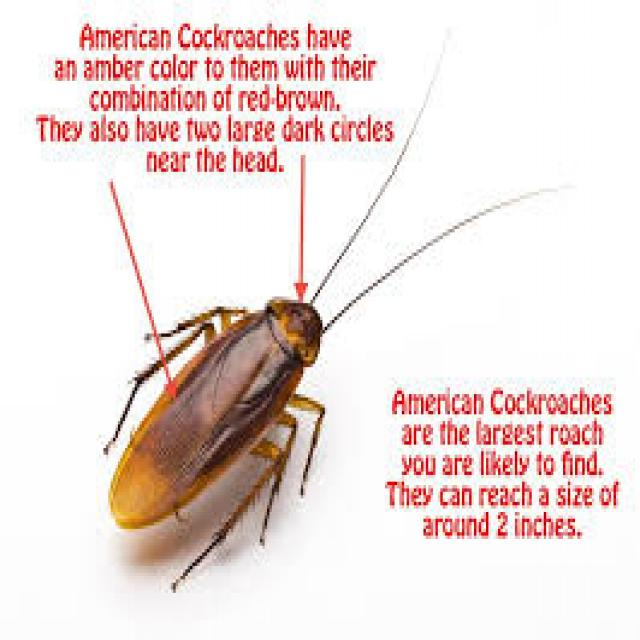Cockroach: (84, 174, 394, 598)
